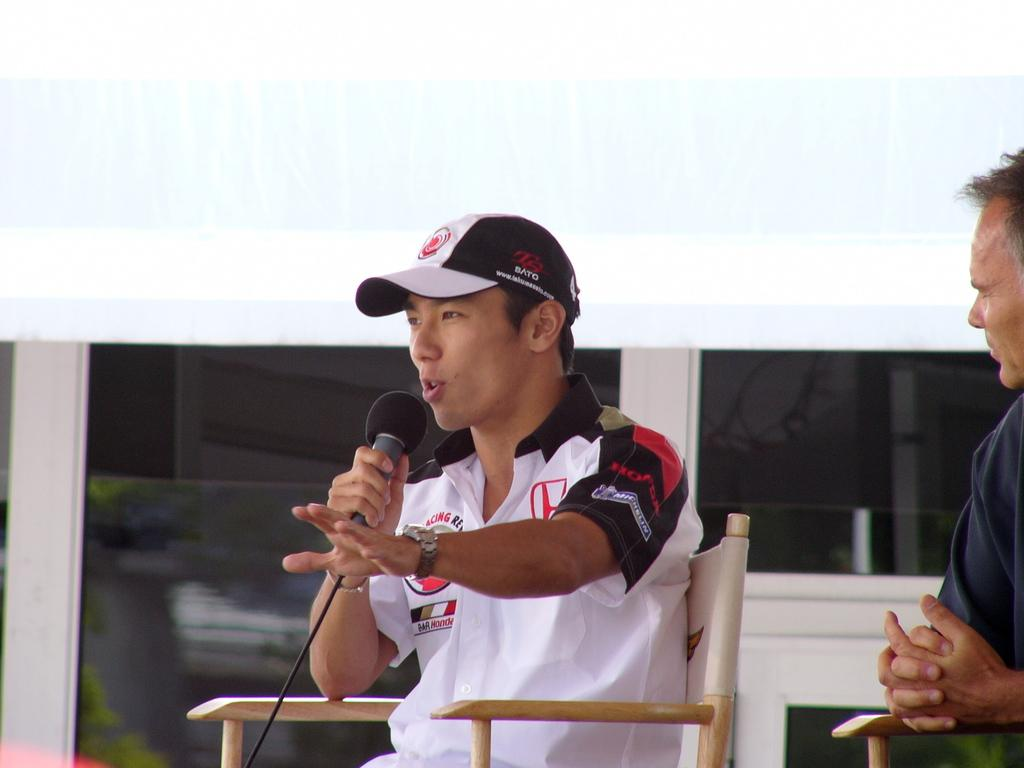Hat: (352, 212, 581, 324)
